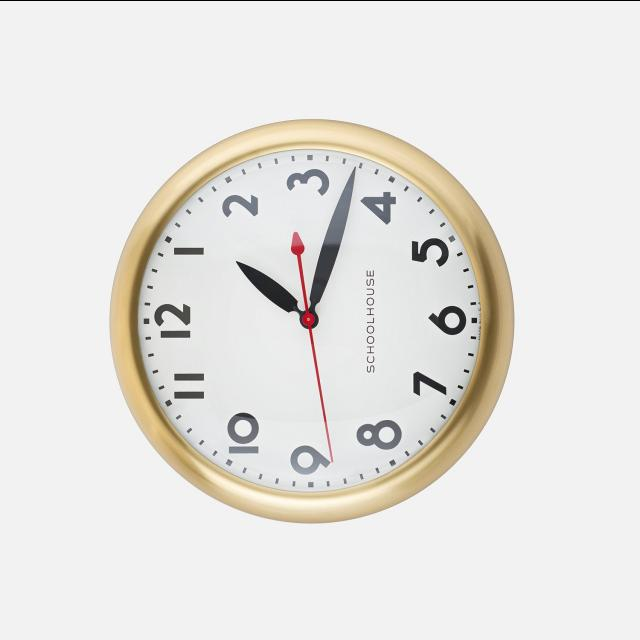clock: (81, 113, 516, 512)
